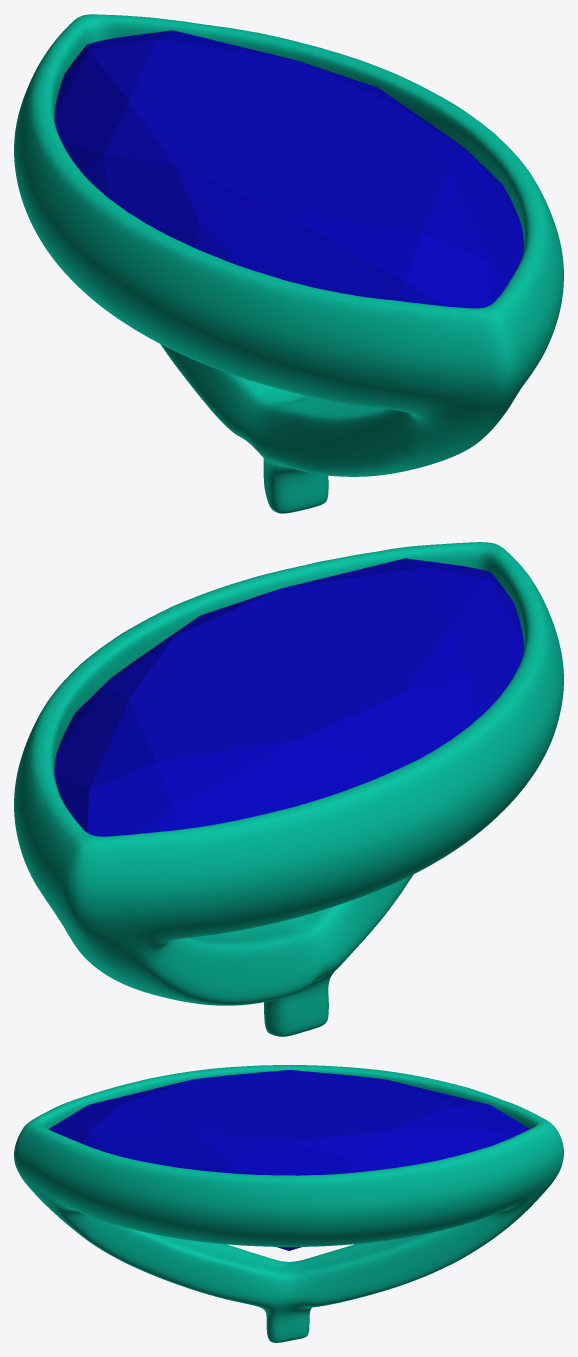
Rendered from Marquise.glb.
3 renders of one model, top to bottom at view 1: azimuth 30°, elevation 25°; view 2: azimuth 150°, elevation 25°; view 3: azimuth 270°, elevation 25°, orthographic. The views are drawn at different scales.
Visible parts, largest first — view 1: /GSMOD388300- BEZEL_Marquise_IJ.3dm, Diamond_Marquise; view 2: /GSMOD388300- BEZEL_Marquise_IJ.3dm, Diamond_Marquise; view 3: /GSMOD388300- BEZEL_Marquise_IJ.3dm, Diamond_Marquise.
Part boxes in pixels (box(x1,y1,x2,y2)): /GSMOD388300- BEZEL_Marquise_IJ.3dm: box(14, 14, 563, 513); Diamond_Marquise: box(54, 30, 523, 308); /GSMOD388300- BEZEL_Marquise_IJ.3dm: box(14, 542, 563, 1036); Diamond_Marquise: box(54, 558, 523, 836); /GSMOD388300- BEZEL_Marquise_IJ.3dm: box(14, 1065, 563, 1342); Diamond_Marquise: box(49, 1070, 529, 1250).
Size of the model in its own units: 7.15 by 6.13 by 13.2.
